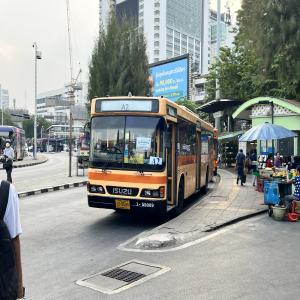BMTA-bus: (86, 96, 215, 215)
Bus Line Number: (120, 102, 132, 112)
Bus Side Number: (134, 200, 156, 210)
Destination Sign: (149, 156, 162, 168)
